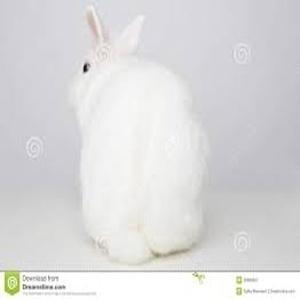rabbit: (70, 6, 207, 262)
